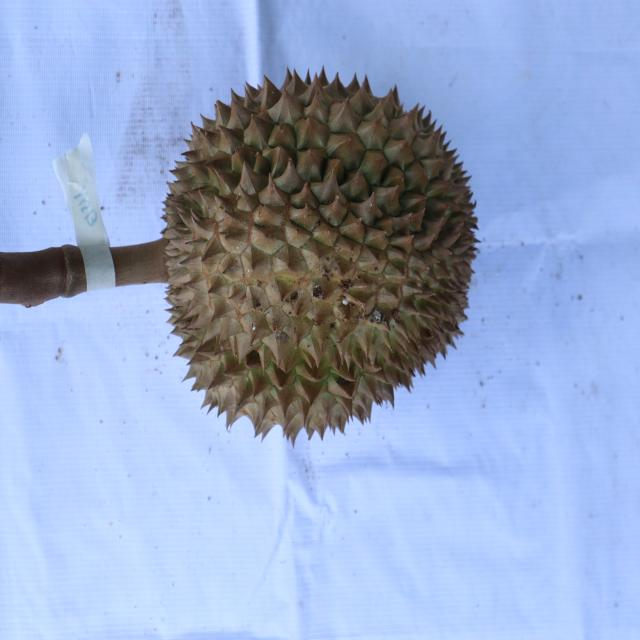mature: (158, 66, 484, 444)
